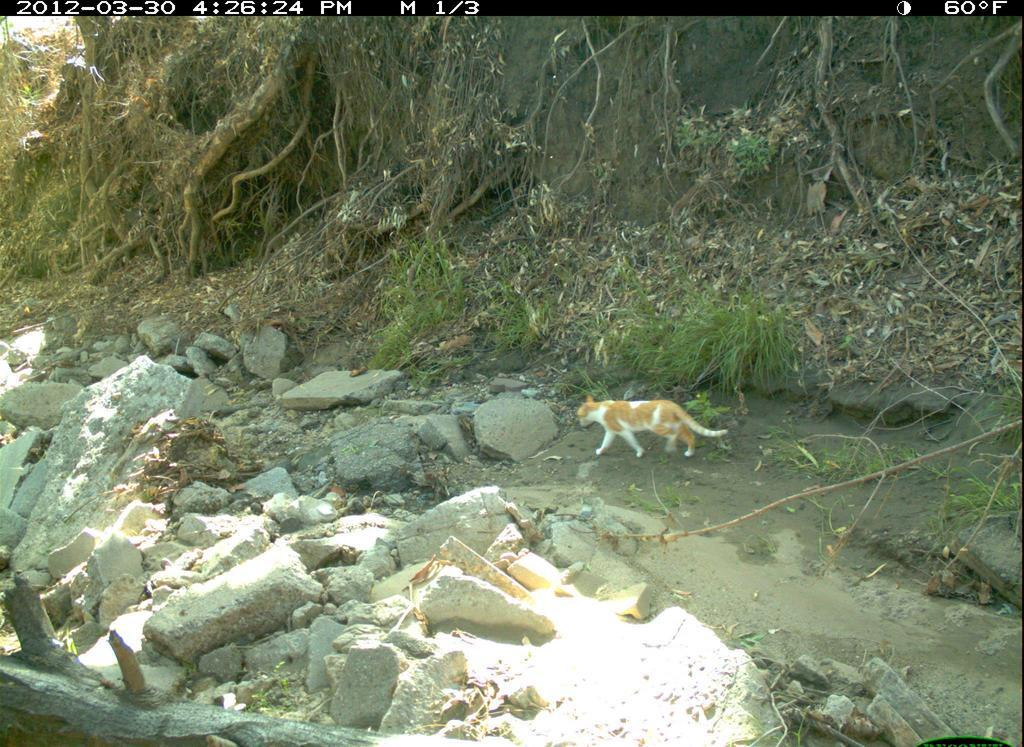cat: (565, 395, 731, 466)
